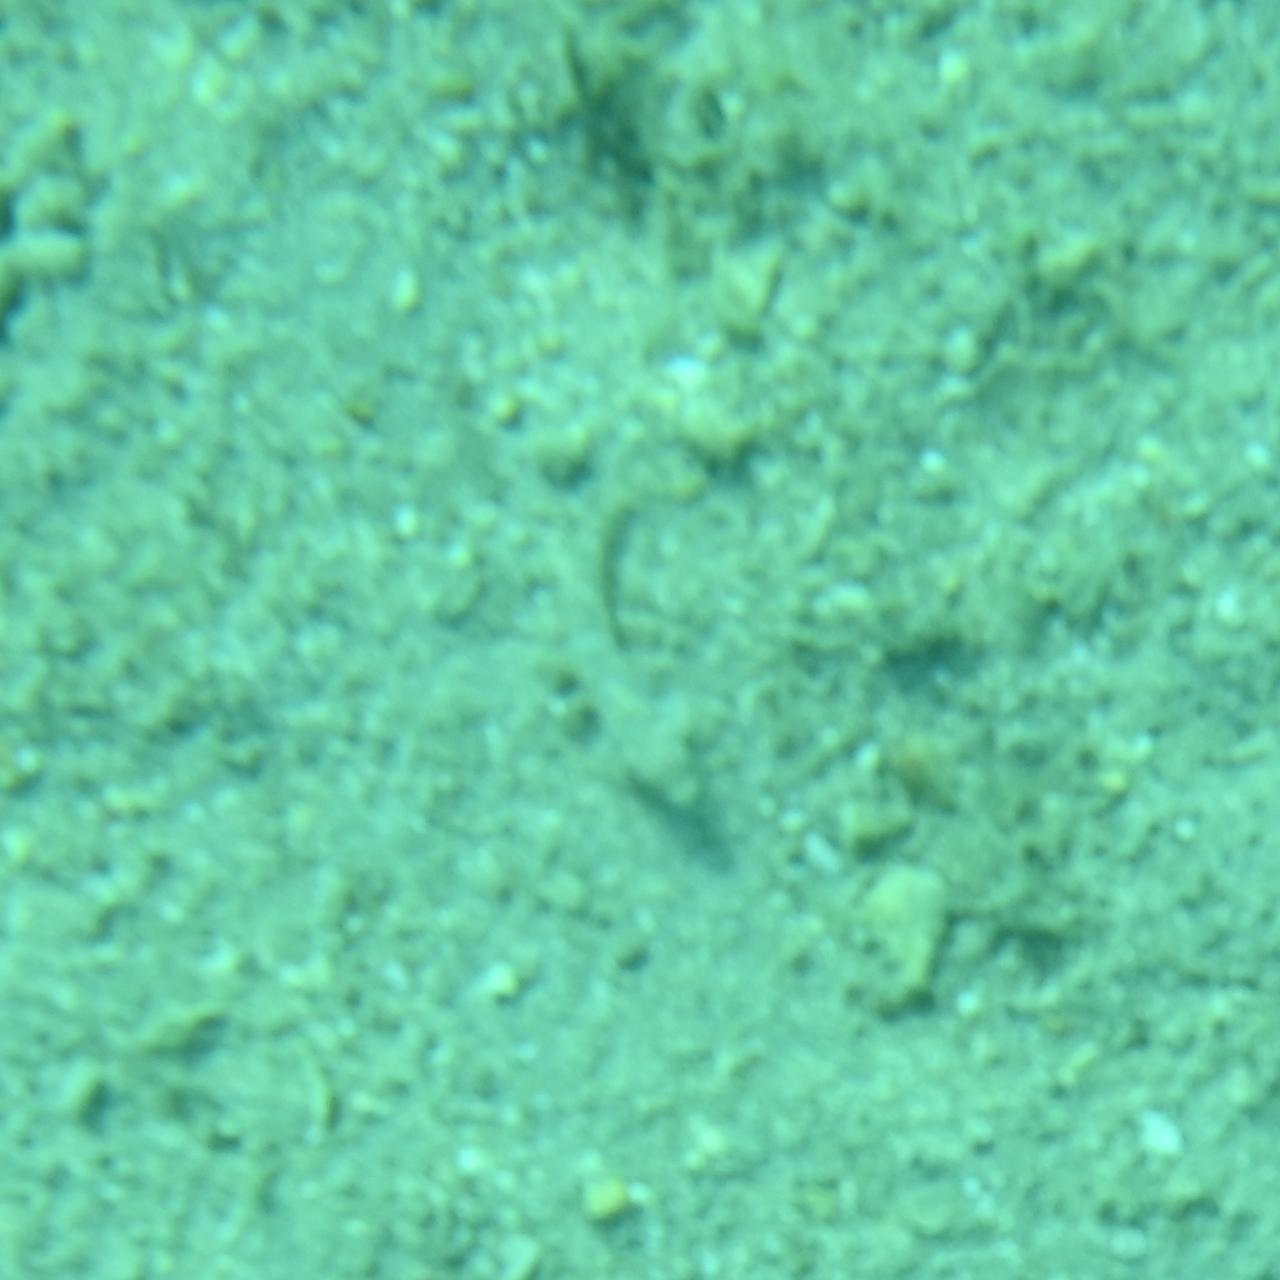Gobius sp: (475, 448, 805, 832)
